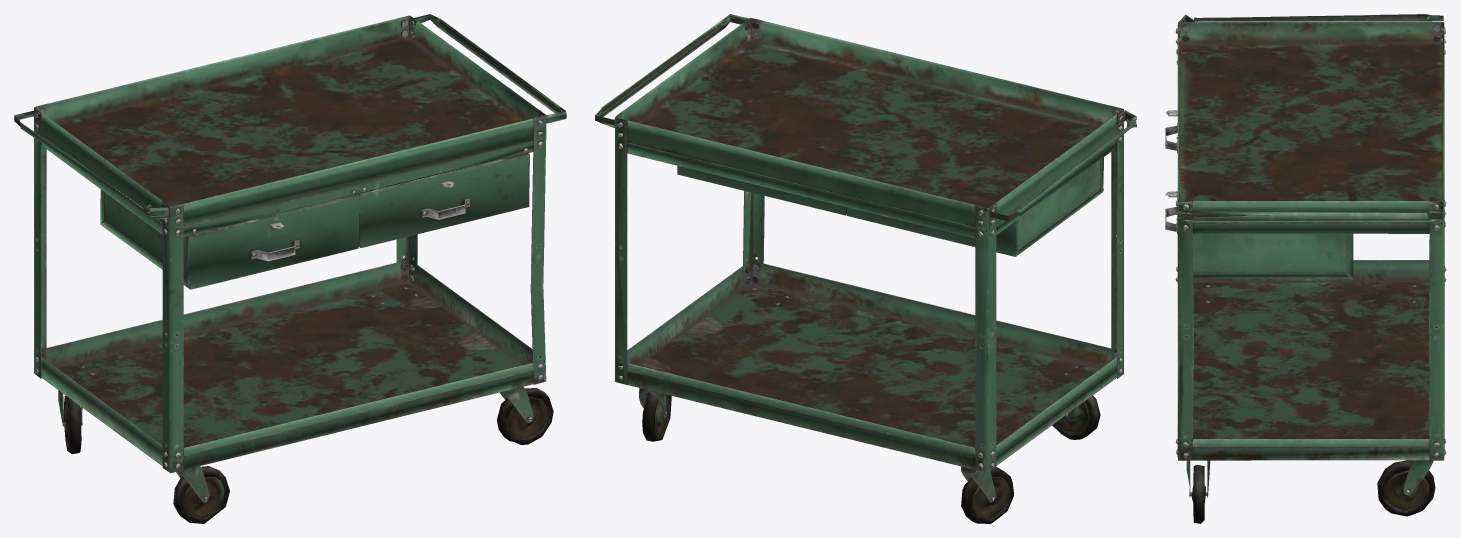
The model's file is tool_cart.glb.
The picture shows the model from 3 angles, left to right: view 1: azimuth 30°, elevation 25°; view 2: azimuth 150°, elevation 25°; view 3: azimuth 270°, elevation 25°; orthographic projection. The views are drawn at different scales.
Visible parts, largest first — view 1: tool_cart; view 2: tool_cart; view 3: tool_cart.
Boxes of the visible parts, box(x1,y1,x2,y2) form: tool_cart: box(14, 14, 566, 523); tool_cart: box(595, 14, 1136, 523); tool_cart: box(1165, 14, 1446, 523).
Bounding box in the file's own units: 1.27 × 0.9619 × 0.7522.
Materials: 1 (1 with a texture image).
